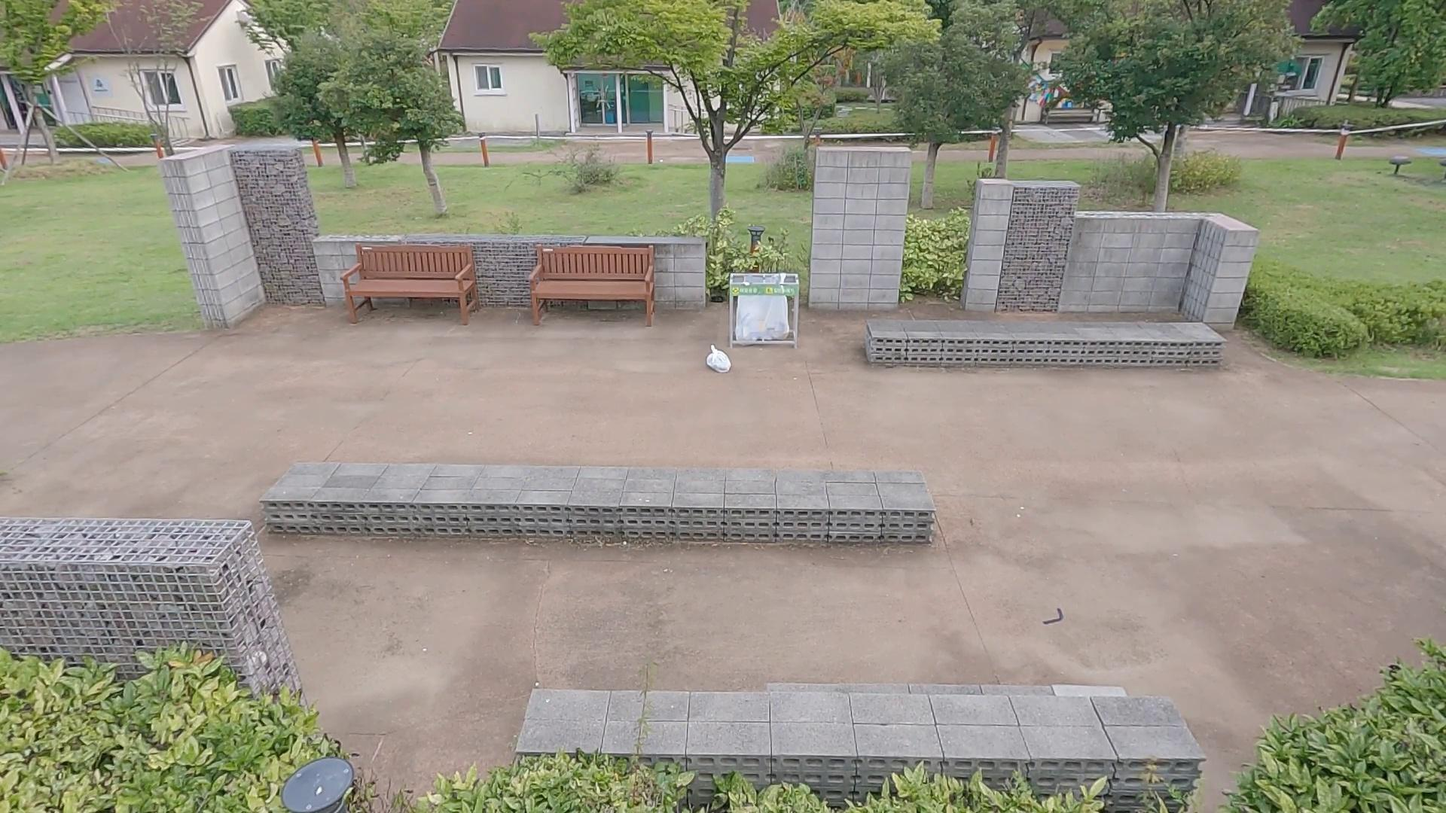trash: (701, 340, 734, 374)
